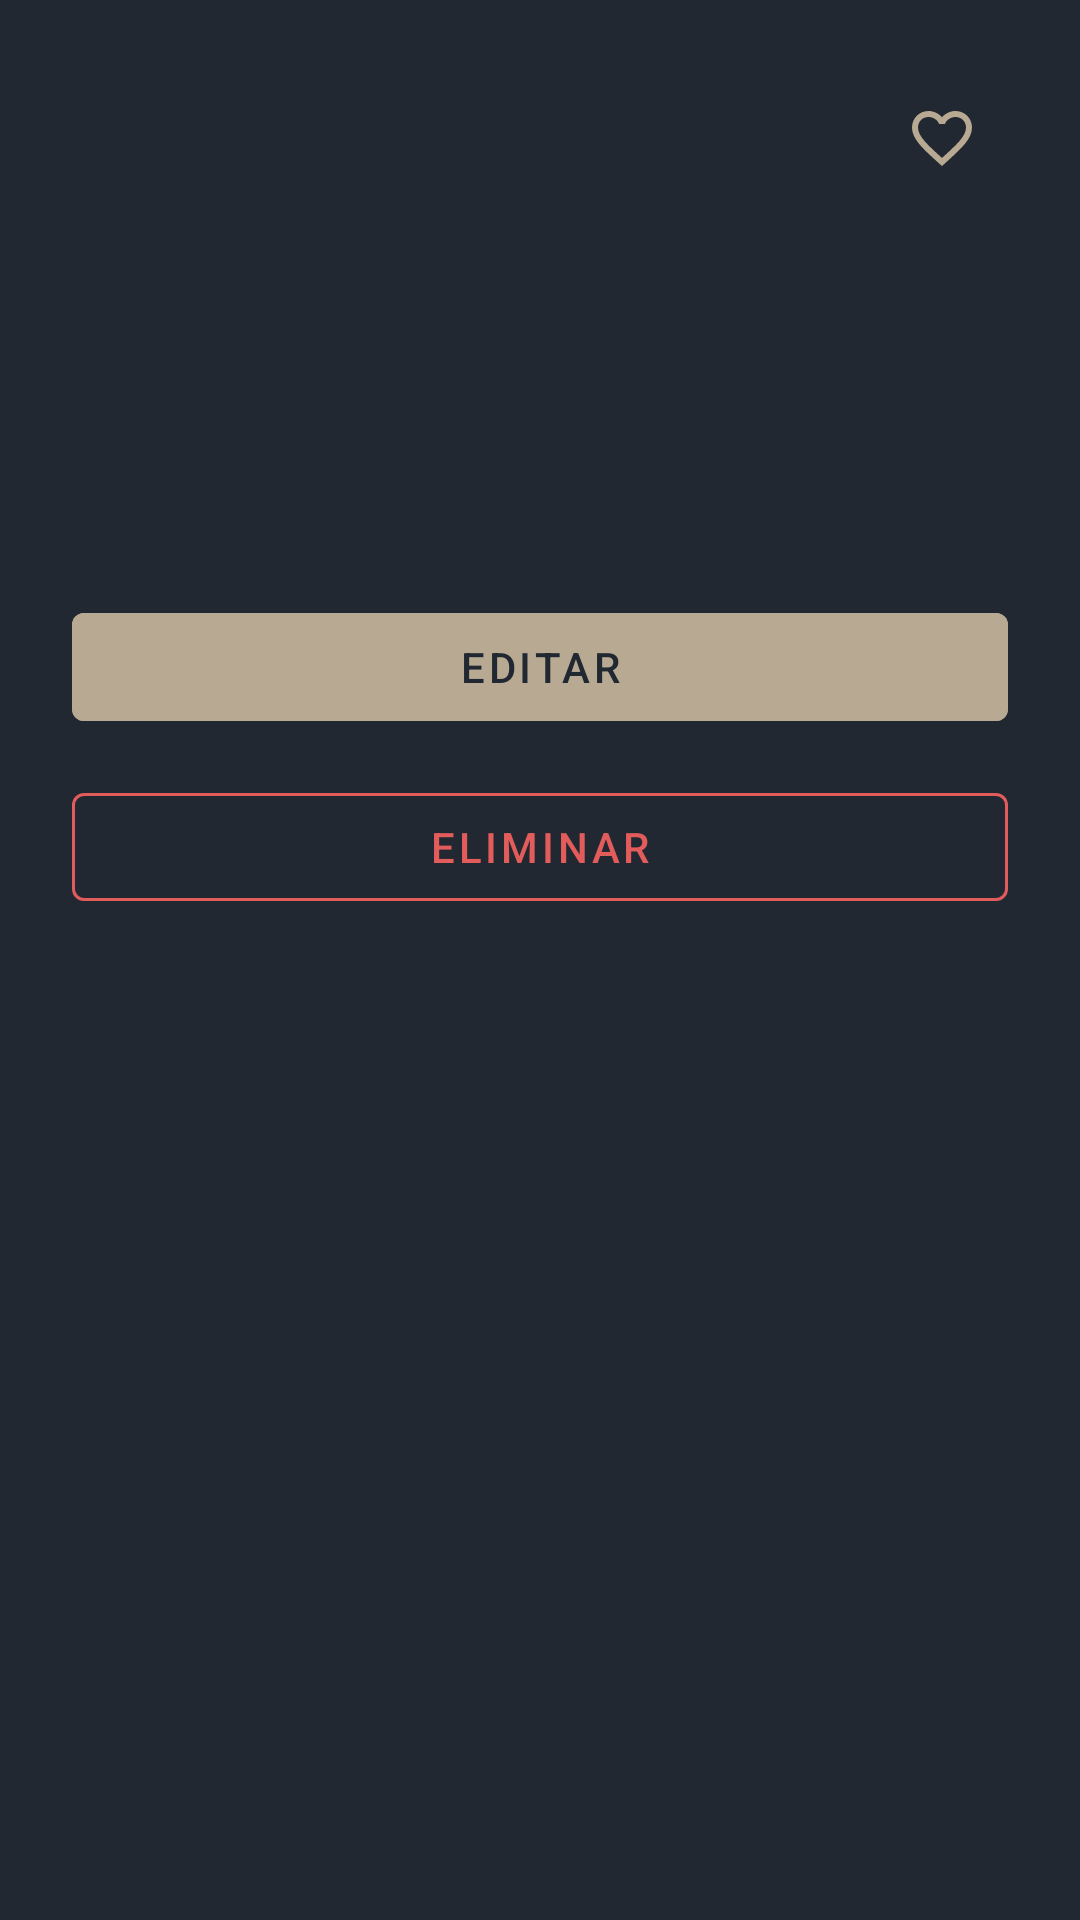

Point at icon controls on the screen. Image size 1080 × 1920, points as point (x, y).
Marcar o desmarcar como favorito: point (942, 138)
